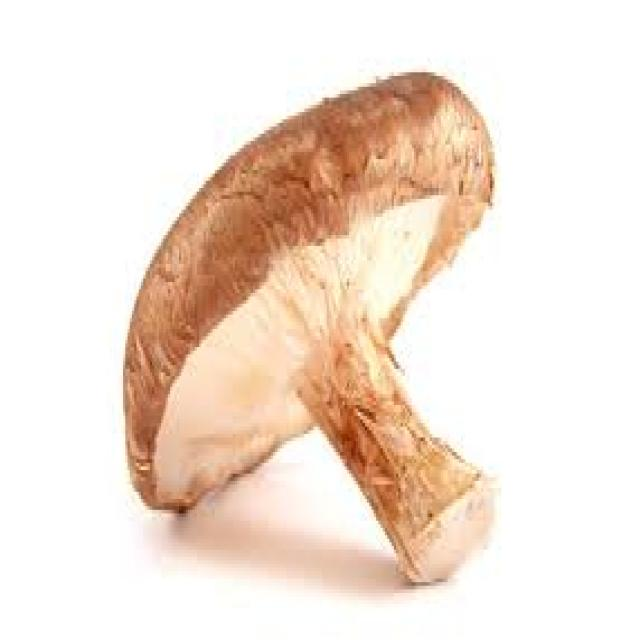organic waste: (123, 65, 495, 579)
